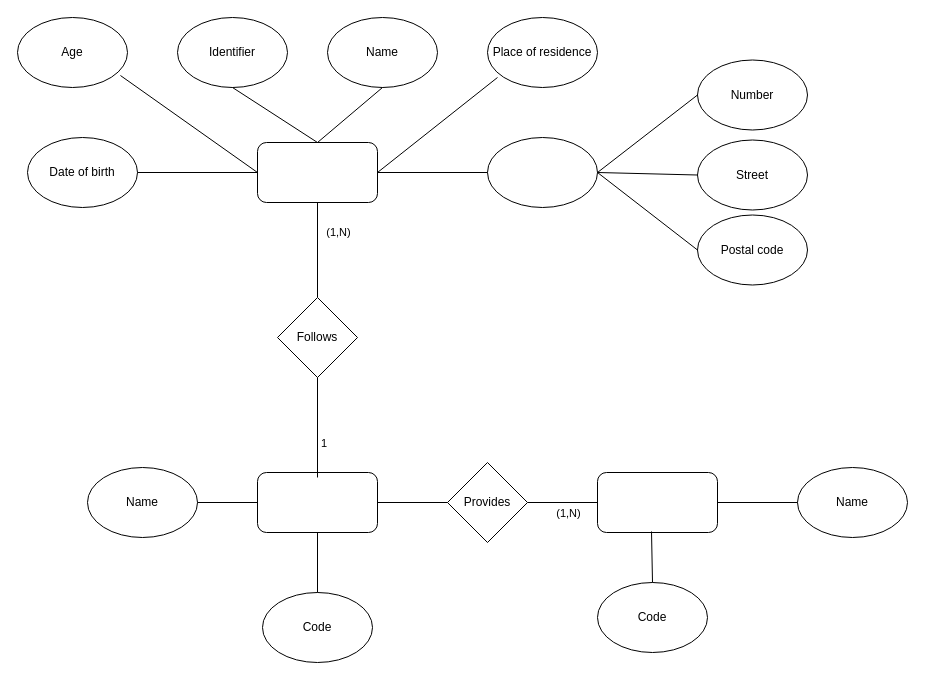
This 925x680 diagram has some shape labels left out. The centre of each missing label's shape, as x and y in pixels:
"Address" belongs at point 542,172.
"Course-subject" belongs at point 317,502.
"Student" belongs at point 317,172.
"Teacher" belongs at point 657,502.
